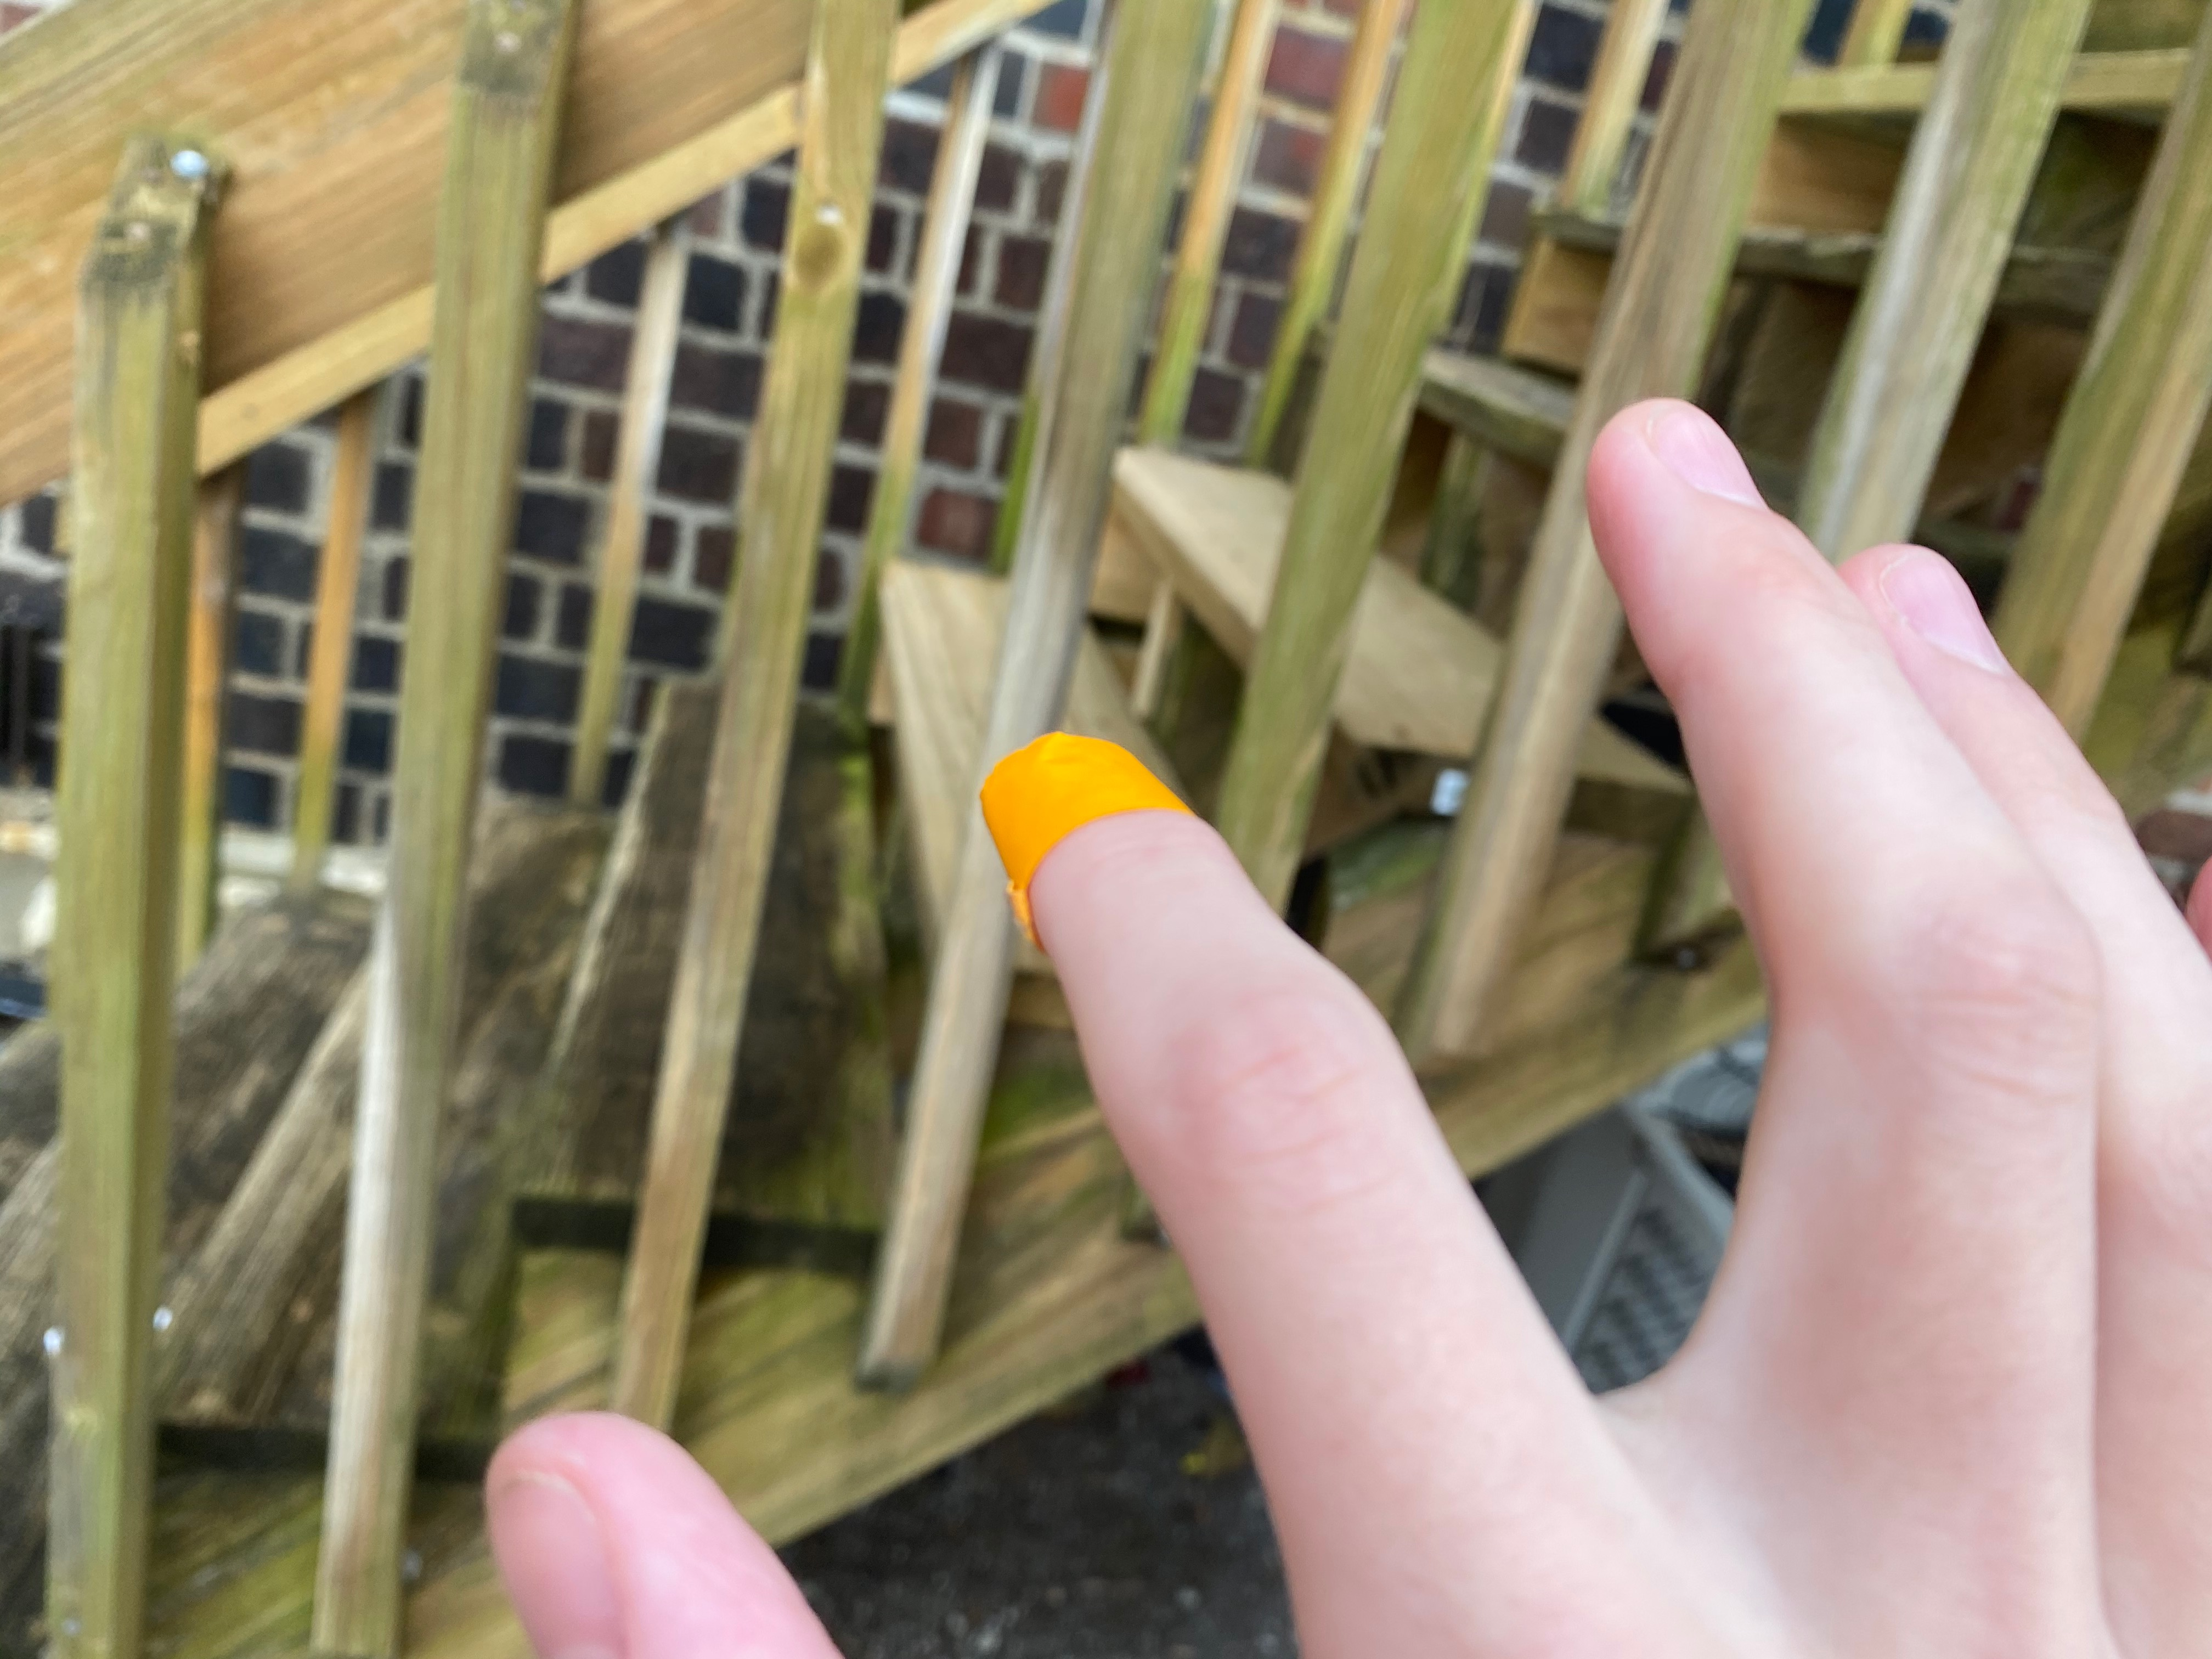fingertip: (963, 704, 1224, 929)
